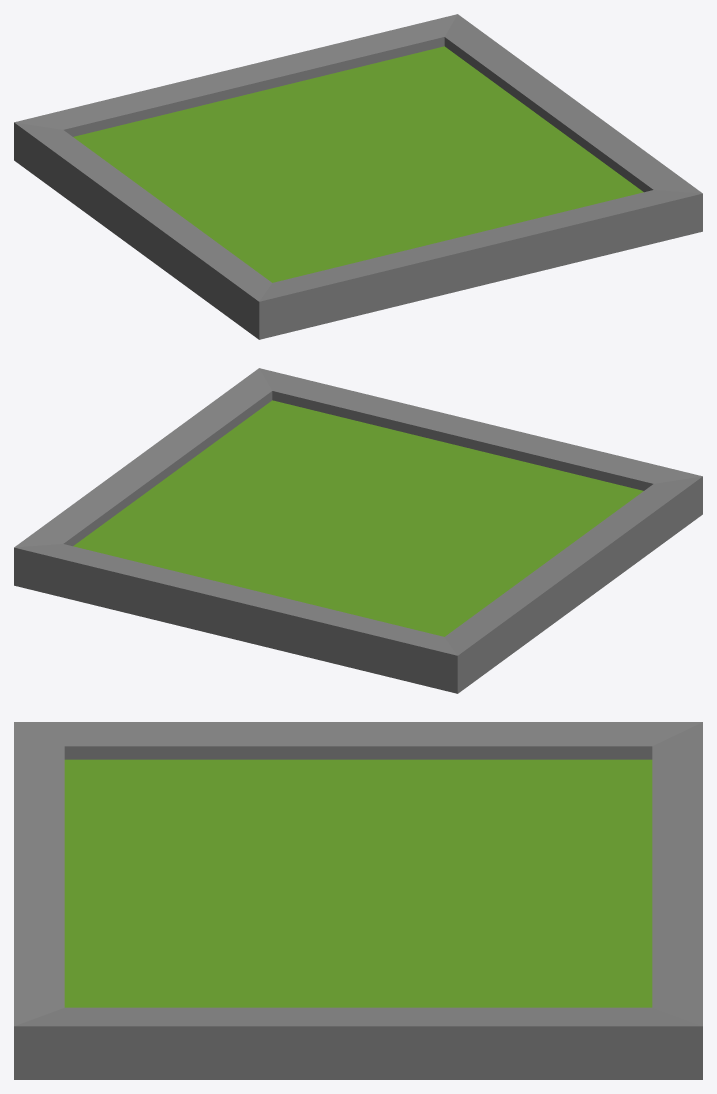
Rendered from Park4.fbx.
3 views of the same model, one above another, from view 1: azimuth 30°, elevation 25°; view 2: azimuth 150°, elevation 25°; view 3: azimuth 270°, elevation 25° (orthographic). The views are drawn at different scales.
Parts seen in each view (by area): view 1: Park1.004; view 2: Park1.004; view 3: Park1.004.
Part boxes in pixels (x1,y1,x2,y2): Park1.004: (14,14,702,339); Park1.004: (14,368,702,693); Park1.004: (14,722,702,1079).
Size of the model in its own units: 212 by 17.41 by 203.
